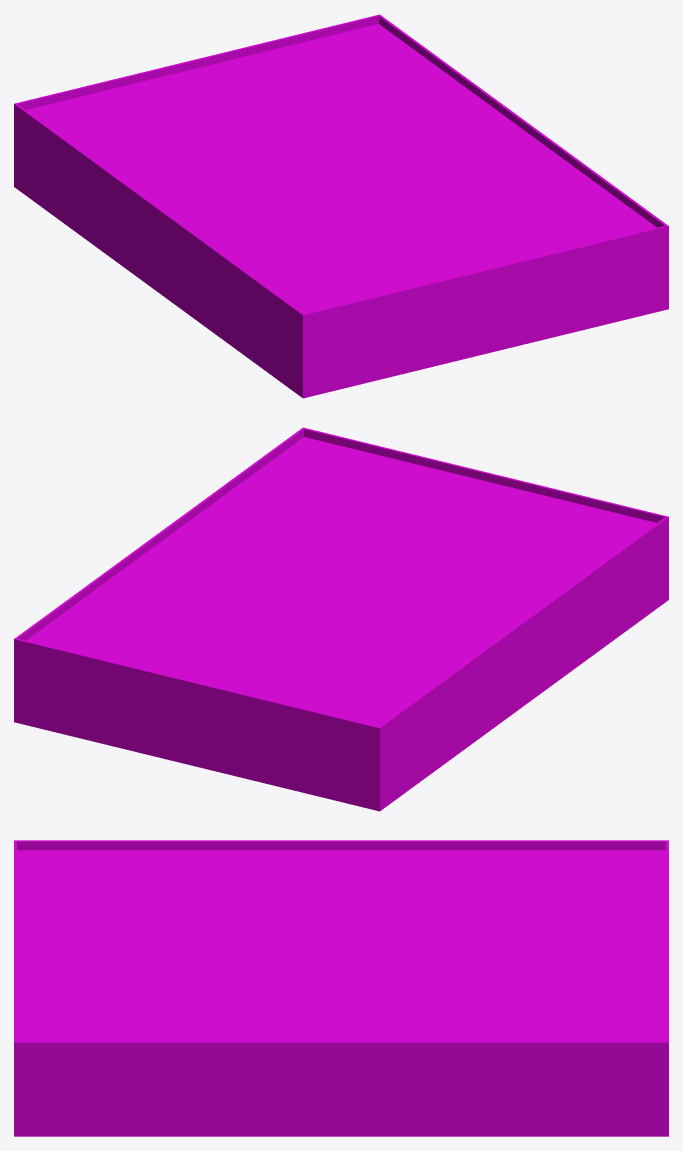
File: set_lakebed_block.fbx
3 renders of one model, top to bottom at view 1: azimuth 30°, elevation 25°; view 2: azimuth 150°, elevation 25°; view 3: azimuth 270°, elevation 25°, orthographic. The views are drawn at different scales.
Visible parts, largest first — view 1: set_lakebed_block; view 2: set_lakebed_block; view 3: set_lakebed_block.
Part boxes in pixels (bbox=[...]): set_lakebed_block: bbox=[14, 14, 668, 398]; set_lakebed_block: bbox=[14, 427, 668, 811]; set_lakebed_block: bbox=[14, 840, 668, 1136].
Size of the model in its own units: 15200 by 3300 by 20800.
